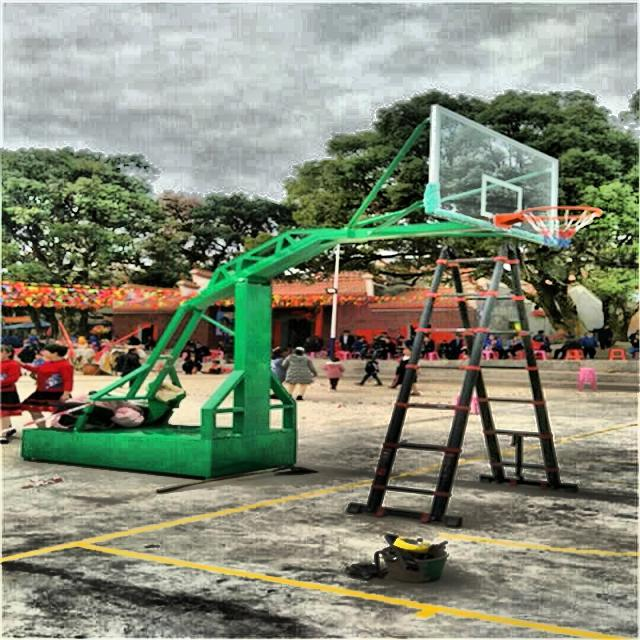rim: (530, 204, 604, 251)
